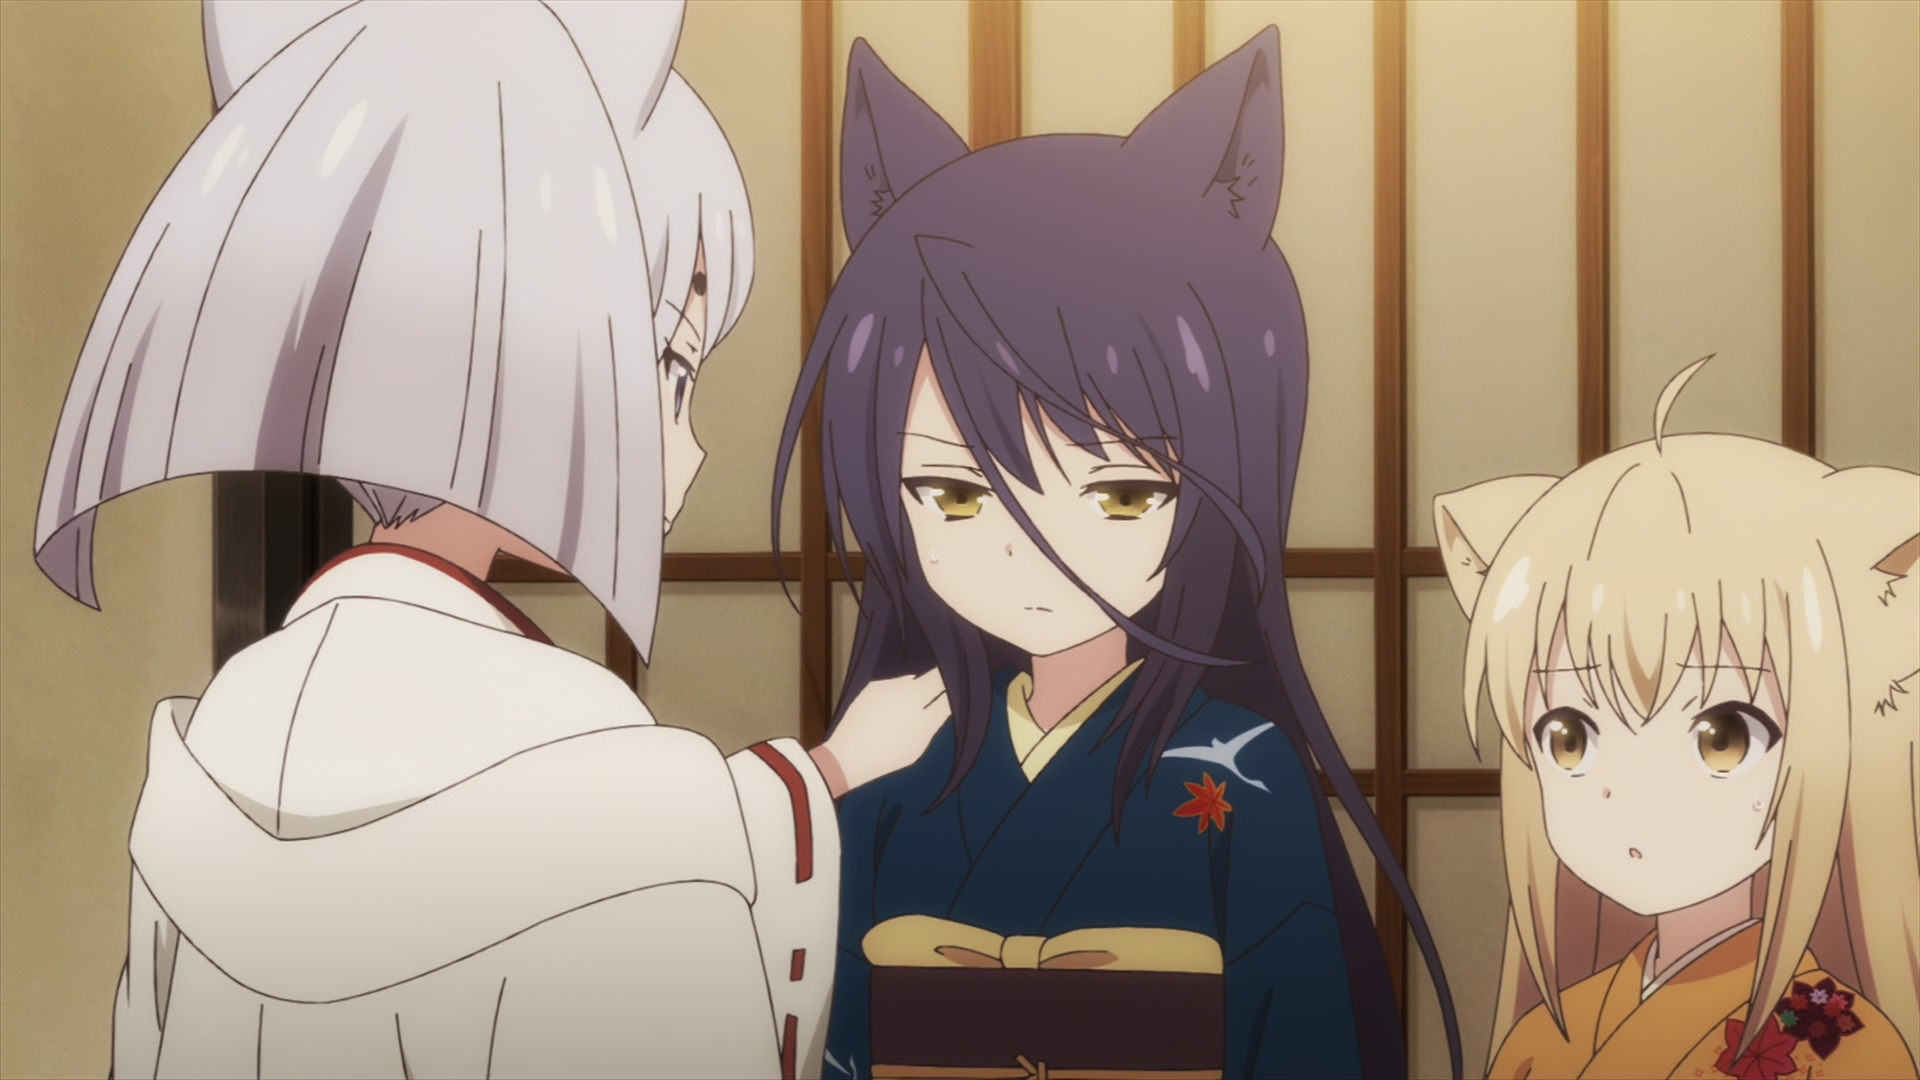柊: (33, 1, 953, 1080)
柚: (1433, 353, 1920, 1080)
皋: (770, 22, 1462, 1080)
